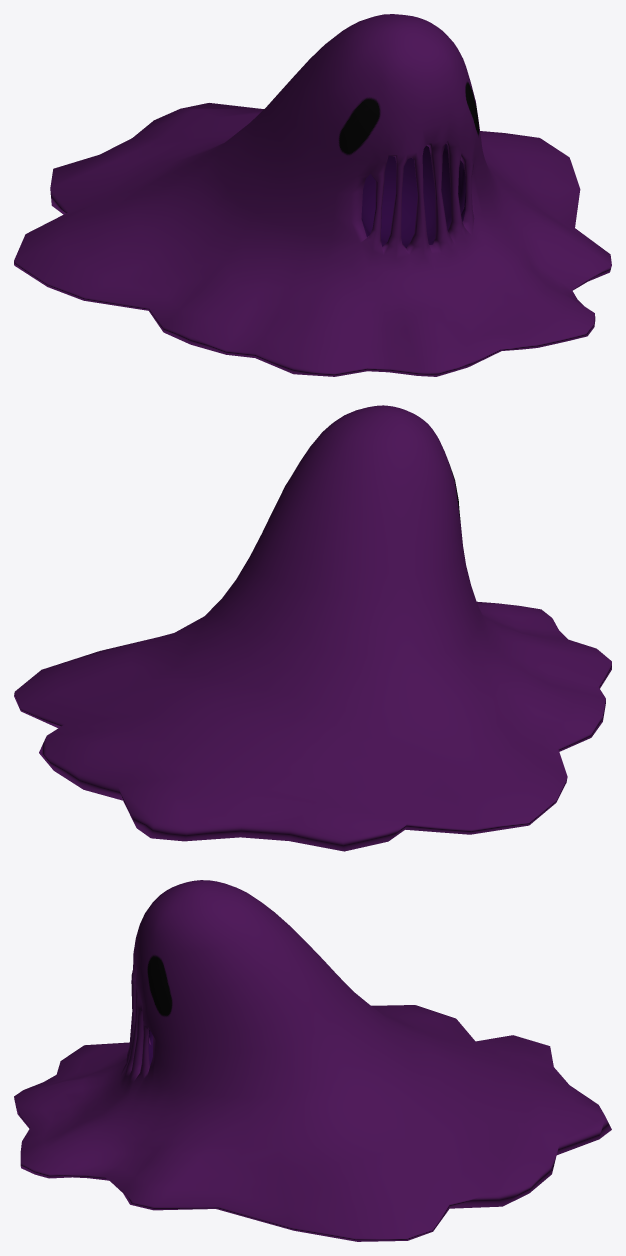
The model's file is oilMonster.fbx.
3 renders of one model, top to bottom at view 1: azimuth 30°, elevation 25°; view 2: azimuth 150°, elevation 25°; view 3: azimuth 270°, elevation 25°, orthographic. The views are drawn at different scales.
Visible parts, largest first — view 1: geo_oilMonsterRig; view 2: geo_oilMonsterRig; view 3: geo_oilMonsterRig.
Part boxes in pixels (x1,y1,x2,y2): geo_oilMonsterRig: [14, 14, 611, 376]; geo_oilMonsterRig: [14, 405, 611, 851]; geo_oilMonsterRig: [14, 880, 611, 1241].
Bounding box in the file's own units: 8.81 × 4.27 × 9.57.
1 material, 1 textured.
